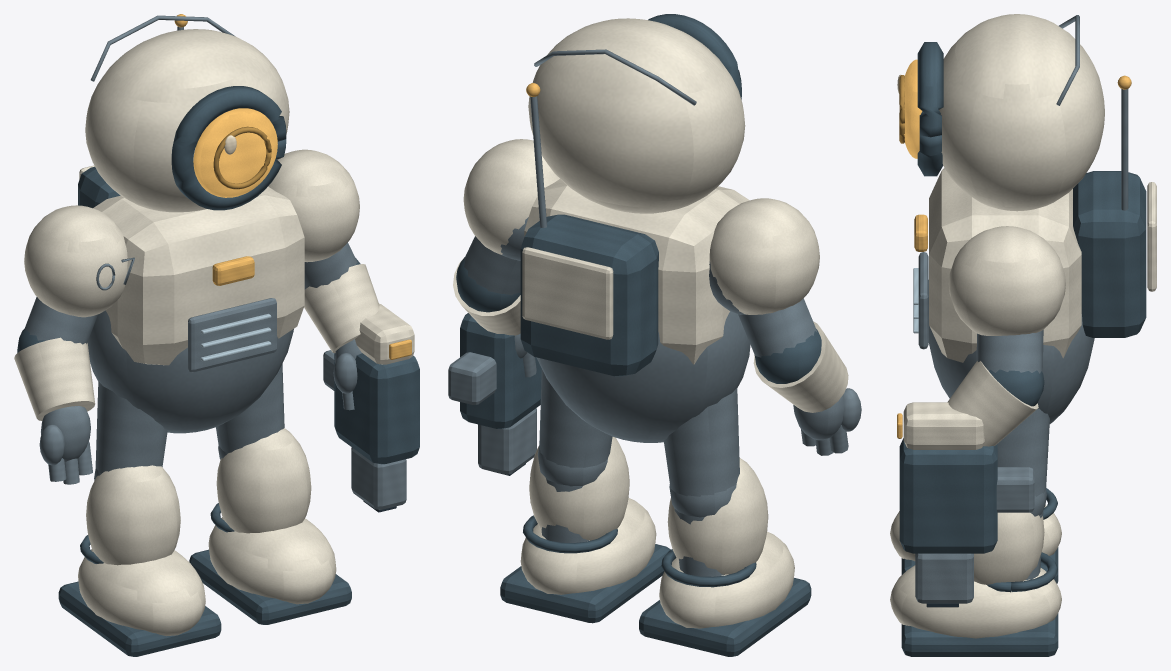
File: unit-7.glb
The picture shows the model from 3 angles, left to right: view 1: azimuth 30°, elevation 25°; view 2: azimuth 150°, elevation 25°; view 3: azimuth 270°, elevation 25°; orthographic projection. The views are drawn at different scales.
Visible parts, largest first — view 1: unit-7; view 2: unit-7; view 3: unit-7.
Boxes of the visible parts, x1,y1,x2,y2 form: unit-7: [14, 14, 419, 656]; unit-7: [448, 14, 861, 656]; unit-7: [890, 14, 1156, 656].
Bounding box in the file's own units: 1.1 × 1.65 × 0.6825.
Materials: 2 (2 with a texture image).
